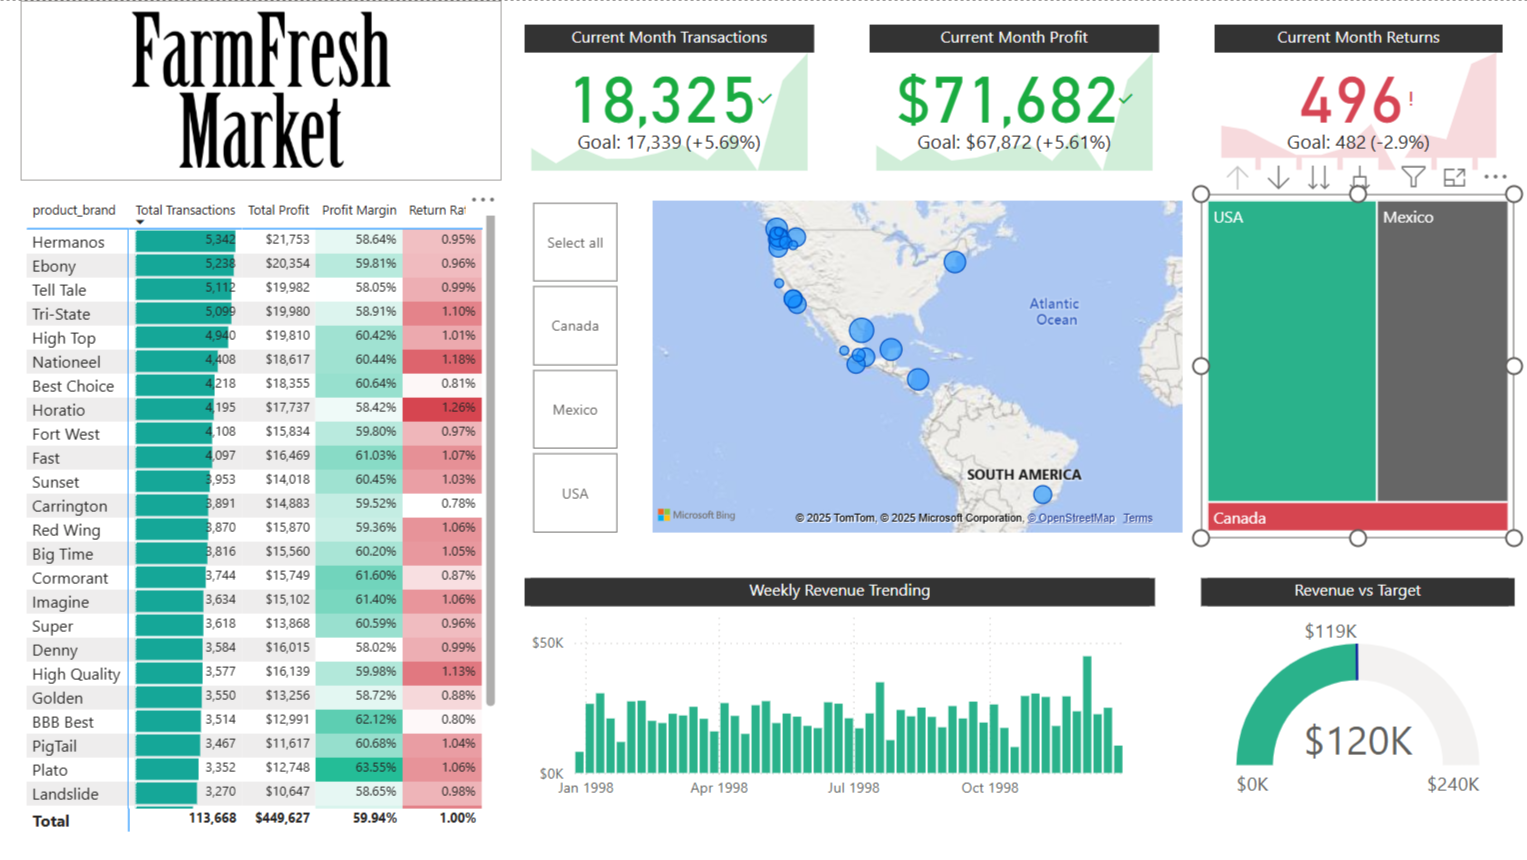

The page's visual inventory and layout, read from the dashboard file:
{"tool":"powerbi","page":{"name":"Topline Performance","canvas":[1280,720],"ordinal":0},"visuals":[{"type":"pivotTable","fields":{"Rows":["Products.product_brand"],"Values":["Transaction_Data.Total Transactions","Transaction_Data.Total Profit","Transaction_Data.Profit Margin","Returns_Data.Return Rate"]},"box":[20,161,401,536],"z":0},{"type":"kpi","title":" Current Month Transactions","fields":{"Indicator":["Transaction_Data.Total Transactions"],"TrendLine":["Calendar.Start of Month"],"Goal":["Transaction_Data.Last Month Transactions"]},"box":[440,20,241.1,126.7],"z":1000},{"type":"kpi","title":" Current Month Returns","fields":{"TrendLine":["Calendar.Start of Month"],"Indicator":["Returns_Data.Total Returns"],"Goal":["Returns_Data.Last Month Returns"]},"box":[1015,20,240,126.2],"z":2000},{"type":"kpi","title":" Current Month Profit","fields":{"TrendLine":["Calendar.Start of Month"],"Indicator":["Transaction_Data.Total Profit"],"Goal":["Transaction_Data.Last Month profit"]},"box":[727.5,20,241.1,126.7],"z":3000},{"type":"map","fields":{"Category":["Stores.store_city"],"Size":["Transaction_Data.Total Transactions"]},"box":[541.1,161.1,452.2,286.7],"z":4000},{"type":"slicer","fields":{"Values":["Stores.store_country"]},"box":[421.1,161.1,120,288.9],"z":5000},{"type":"columnChart","title":"Weekly Revenue Trending","fields":{"Category":["Calendar.Start of Week"],"Y":["Transaction_Data.Total Revenue"]},"box":[440,481.1,525.6,192.2],"z":6000},{"type":"treemap","fields":{"Group":["Stores.store_country","Stores.store_state","Stores.store_city"],"Values":["Transaction_Data.Total Transactions"]},"box":[1003.8,161.2,261.2,286.2],"z":7000},{"type":"gauge","title":"Revenue vs Target","fields":{"Y":["Transaction_Data.Total Revenue"],"TargetValue":["Transaction_Data.Revenue Target"]},"box":[1004,481,261,192],"z":8000},{"type":"image","box":[20,0,401,150],"z":9000}]}

Visuals, with their boxes on the page's 1280x720 design canvas (x1, y1, x2, y2). These are canvas units, not pixel positions in the 1527x860 screenshot, which may show the page scaled, cropped or inside an application window:
pivotTable - Products.product_brand x Transaction_Data.Total Transactions: {"left": 20, "top": 161, "right": 421, "bottom": 697}
" Current Month Transactions" kpi: {"left": 440, "top": 20, "right": 681, "bottom": 147}
" Current Month Returns" kpi: {"left": 1015, "top": 20, "right": 1255, "bottom": 146}
" Current Month Profit" kpi: {"left": 728, "top": 20, "right": 969, "bottom": 147}
map - Stores.store_city x Transaction_Data.Total Transactions: {"left": 541, "top": 161, "right": 993, "bottom": 448}
slicer - Stores.store_country: {"left": 421, "top": 161, "right": 541, "bottom": 450}
"Weekly Revenue Trending" columnChart: {"left": 440, "top": 481, "right": 966, "bottom": 673}
treemap - Stores.store_country x Stores.store_state: {"left": 1004, "top": 161, "right": 1265, "bottom": 447}
"Revenue vs Target" gauge: {"left": 1004, "top": 481, "right": 1265, "bottom": 673}
image: {"left": 20, "top": 0, "right": 421, "bottom": 150}
